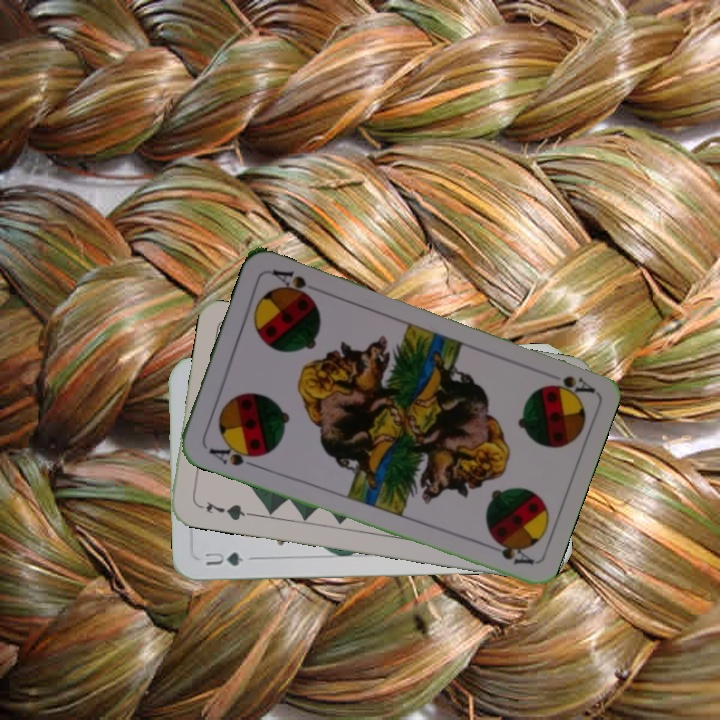G7: (202, 498, 253, 523)
GU: (201, 547, 246, 569)
SA: (205, 439, 263, 471), (543, 371, 596, 398)
